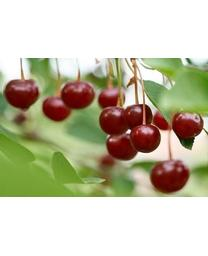cherry: (150, 159, 191, 193), (4, 79, 39, 109), (61, 81, 95, 109), (173, 109, 204, 137), (100, 106, 130, 134), (130, 125, 160, 151), (108, 134, 135, 160), (124, 105, 151, 129), (43, 98, 70, 121)
